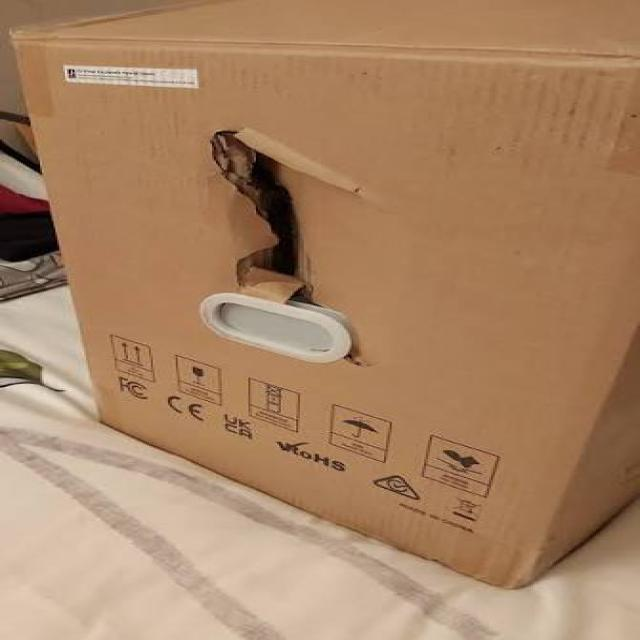carton_box: (0, 0, 640, 600)
fragile_label: (178, 354, 242, 410)
keep_dry_label: (334, 406, 406, 460)
package_damage: (193, 99, 497, 373)
this_side_up_label: (100, 321, 164, 385)
